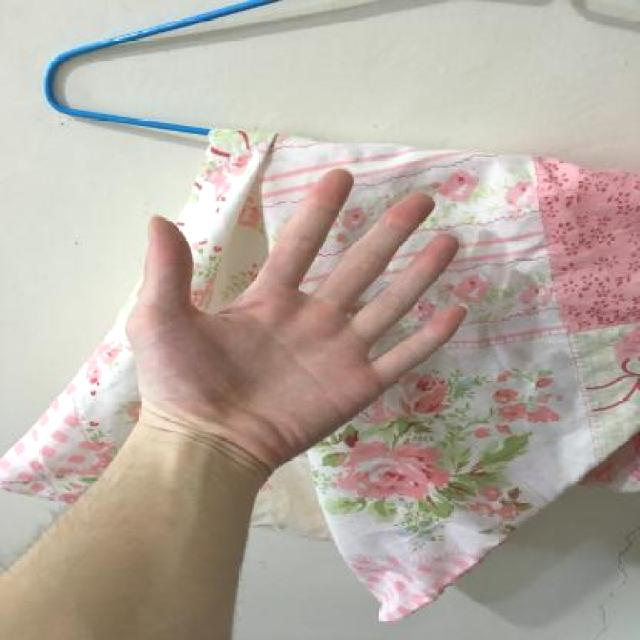no_glove: (104, 150, 473, 472)
